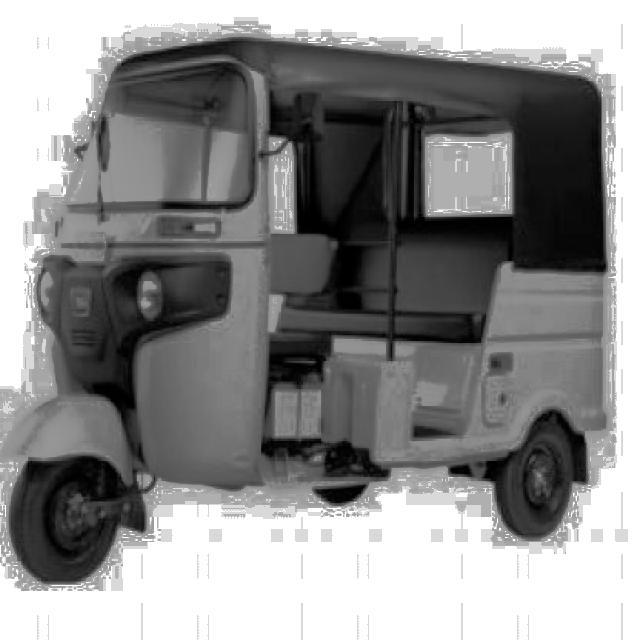Auto-Rickshaw: (0, 32, 610, 582)
